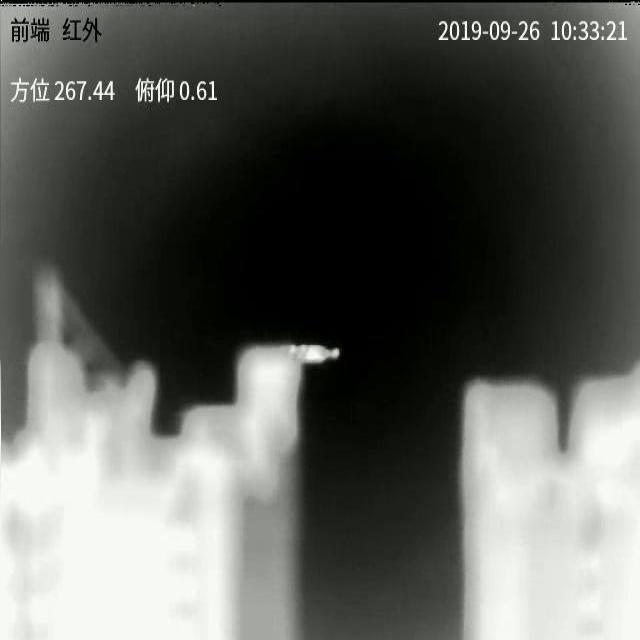drone: (288, 344, 340, 364)
